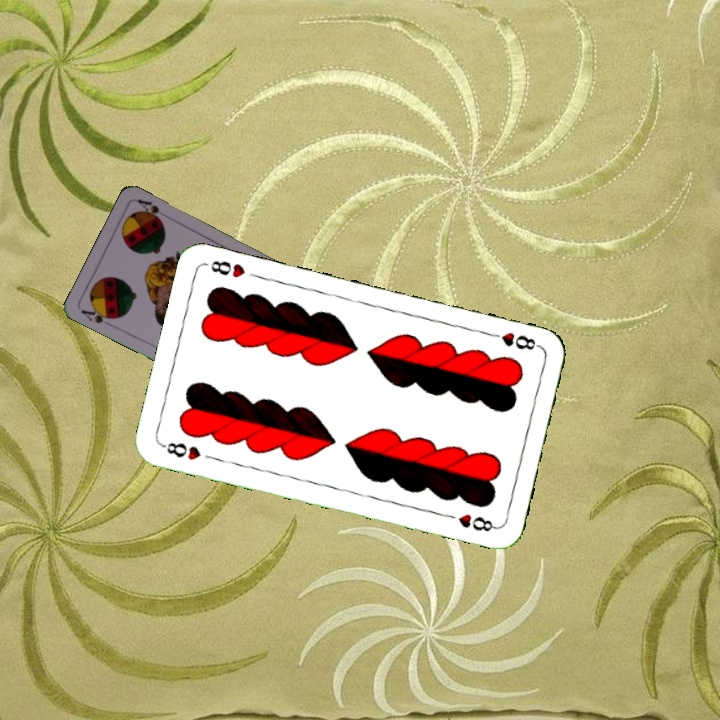H8: (484, 328, 543, 353), (158, 438, 204, 463)
SA: (77, 302, 118, 329)
